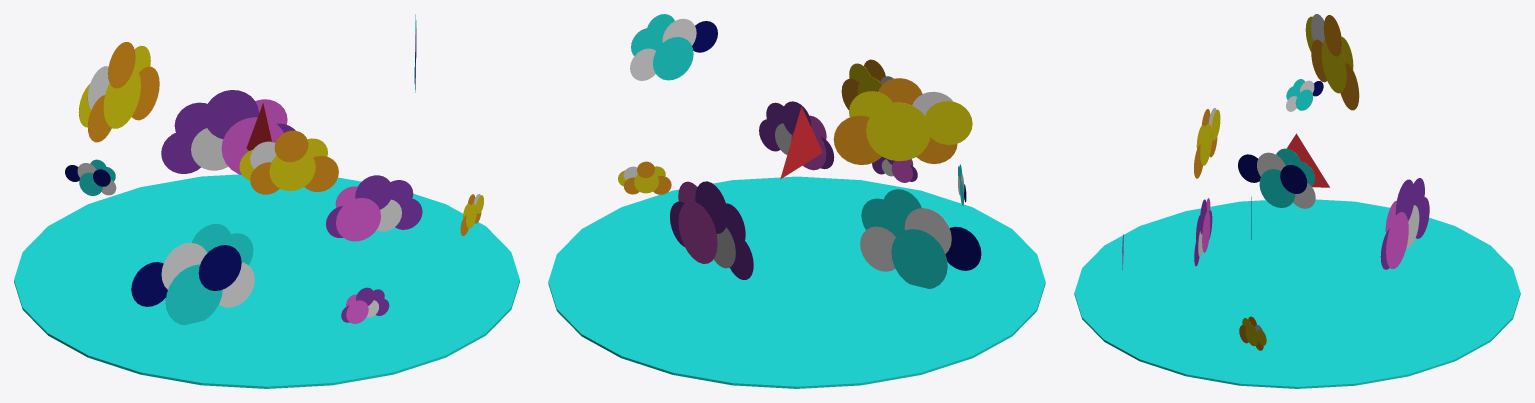
File: Figuras02.glb
3 views of the same model, side by side, from view 1: azimuth 30°, elevation 25°; view 2: azimuth 150°, elevation 25°; view 3: azimuth 270°, elevation 25° (orthographic). The views are drawn at different scales.
Parts seen in each view (by area): view 1: Cylinder.055, Cylinder.048, Cylinder.051, Cylinder.050, Cylinder.060, Cylinder.049, Cylinder.052, Cylinder.054, Cylinder.053, Triangulo; view 2: Cylinder.055, Cylinder.050, Cylinder.048, Cylinder.051, Cylinder.063, Cylinder.049, Triangulo, Cylinder.053, Cylinder.060, Cylinder.054; view 3: Cylinder.055, Cylinder.063, Cylinder.050, Cylinder.051, Cylinder.060, Cylinder.052, Cylinder.049, Triangulo, Cylinder.053.
Boxes of the visible parts, left/top/right/bottom form: Cylinder.055: left=14, top=174, right=519, bottom=388; Cylinder.048: left=131, top=223, right=254, bottom=325; Cylinder.051: left=161, top=90, right=295, bottom=174; Cylinder.050: left=78, top=42, right=159, bottom=142; Cylinder.060: left=239, top=130, right=338, bottom=194; Cylinder.049: left=326, top=175, right=422, bottom=241; Cylinder.052: left=65, top=159, right=116, bottom=195; Cylinder.054: left=341, top=287, right=389, bottom=323; Cylinder.053: left=460, top=194, right=483, bottom=235; Triangulo: left=246, top=103, right=272, bottom=150; Cylinder.055: left=548, top=176, right=1045, bottom=388; Cylinder.050: left=833, top=78, right=972, bottom=164; Cylinder.048: left=860, top=189, right=981, bottom=288; Cylinder.051: left=670, top=181, right=753, bottom=279; Cylinder.063: left=630, top=14, right=717, bottom=80; Cylinder.049: left=759, top=101, right=834, bottom=170; Triangulo: left=780, top=106, right=822, bottom=179; Cylinder.053: left=618, top=161, right=671, bottom=194; Cylinder.060: left=841, top=59, right=893, bottom=109; Cylinder.054: left=872, top=157, right=917, bottom=182; Cylinder.055: left=1074, top=199, right=1520, bottom=388; Cylinder.063: left=1238, top=148, right=1315, bottom=208; Cylinder.050: left=1305, top=14, right=1359, bottom=110; Cylinder.051: left=1380, top=178, right=1429, bottom=269; Cylinder.060: left=1194, top=108, right=1220, bottom=178; Cylinder.052: left=1286, top=79, right=1323, bottom=111; Cylinder.049: left=1194, top=198, right=1212, bottom=266; Triangulo: left=1287, top=133, right=1329, bottom=187; Cylinder.053: left=1239, top=316, right=1266, bottom=350.
Bounding box in the file's own units: 6.32 × 3.51 × 6.32.
